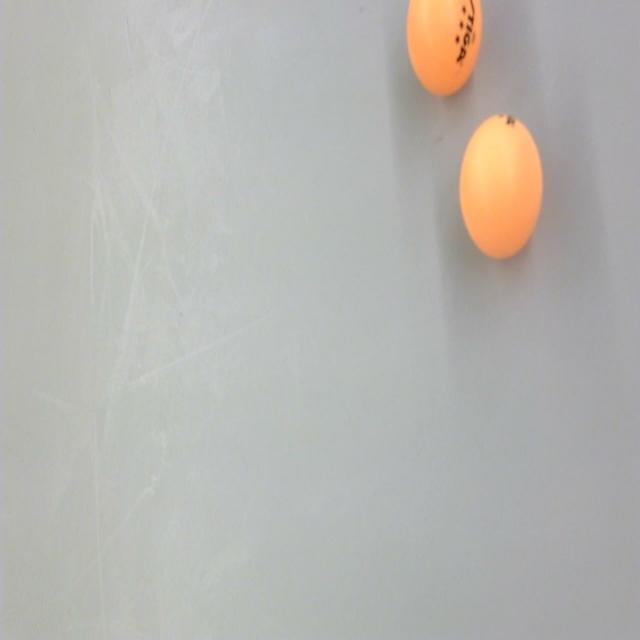ball: (460, 110, 544, 266), (406, 0, 482, 101)
